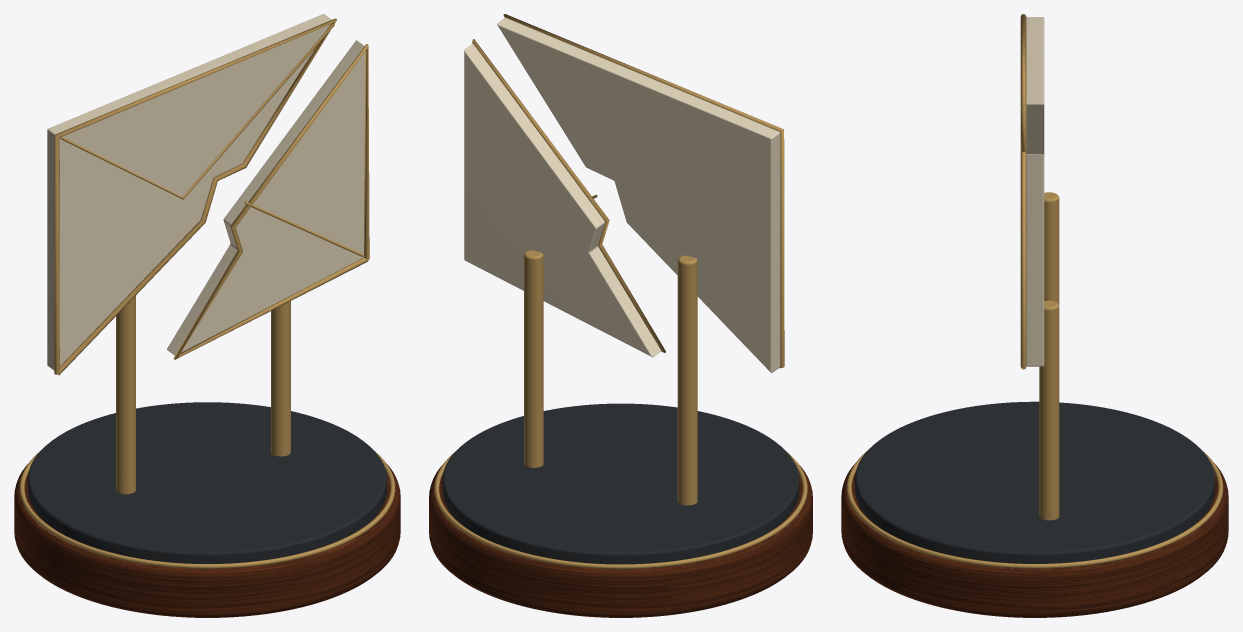
File: escritorio_carta_partida.glb
The picture shows the model from 3 angles, left to right: view 1: azimuth 30°, elevation 25°; view 2: azimuth 150°, elevation 25°; view 3: azimuth 270°, elevation 25°; orthographic projection.
Visible parts, largest first — view 1: carta_partida; view 2: carta_partida; view 3: carta_partida.
Boxes of the visible parts, bbox=[...] form: carta_partida: bbox=[14, 14, 400, 617]; carta_partida: bbox=[429, 14, 812, 617]; carta_partida: bbox=[841, 14, 1228, 617].
Bounding box in the file's own units: 0.27 × 0.381 × 0.27.
4 materials, 1 textured.
